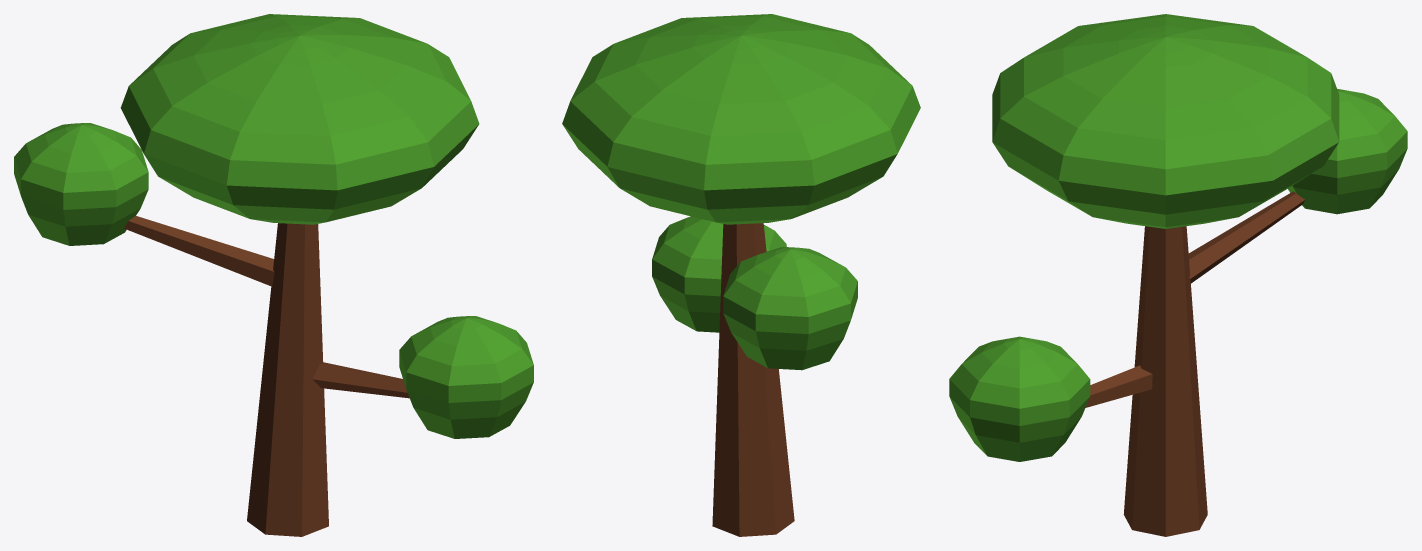
The model's file is MapleTree.fbx.
3 views of the same model, side by side, from view 1: azimuth 30°, elevation 25°; view 2: azimuth 150°, elevation 25°; view 3: azimuth 270°, elevation 25° (orthographic).
Visible parts, largest first — view 1: MapleTree_MapleCrown.001, MapleTree_MapleTrunk.001; view 2: MapleTree_MapleCrown.001, MapleTree_MapleTrunk.001; view 3: MapleTree_MapleCrown.001, MapleTree_MapleTrunk.001.
Boxes of the visible parts, x1,y1,x2,y2 form: MapleTree_MapleCrown.001: (14,14,533,438); MapleTree_MapleTrunk.001: (124,216,409,536); MapleTree_MapleCrown.001: (562,14,920,370); MapleTree_MapleTrunk.001: (712,223,794,536); MapleTree_MapleCrown.001: (949,14,1407,461); MapleTree_MapleTrunk.001: (1085,191,1304,536).
Size of the model in its own units: 929 by 1220 by 1041.
